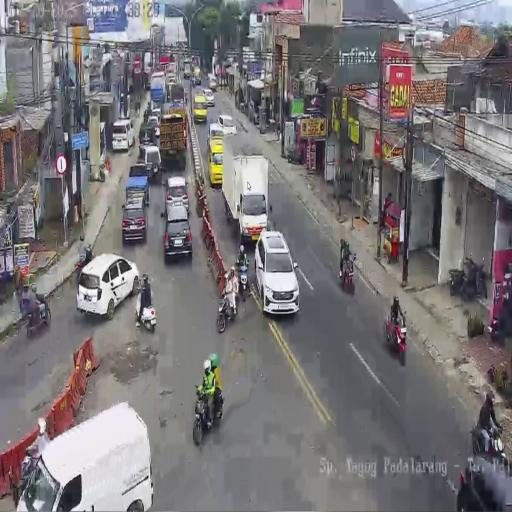3: (221, 145, 266, 245), (158, 111, 186, 169), (167, 82, 187, 118), (150, 70, 167, 103), (144, 51, 153, 77), (184, 60, 194, 82), (194, 67, 202, 83), (179, 57, 186, 72)
car: (13, 402, 153, 511), (76, 252, 140, 319), (255, 228, 300, 316), (457, 446, 512, 511), (163, 202, 193, 262), (19, 286, 51, 338), (122, 193, 148, 244), (111, 118, 135, 153), (140, 144, 162, 180), (208, 136, 223, 186), (214, 112, 237, 136), (146, 113, 161, 135), (202, 87, 215, 107), (166, 74, 176, 88), (209, 76, 218, 91)
truck: (192, 378, 224, 445), (470, 412, 508, 458), (450, 256, 486, 302), (384, 302, 408, 364), (490, 300, 512, 344), (135, 287, 156, 333), (216, 290, 238, 332), (341, 250, 356, 296), (237, 258, 249, 302), (275, 120, 281, 142), (240, 100, 246, 116)
